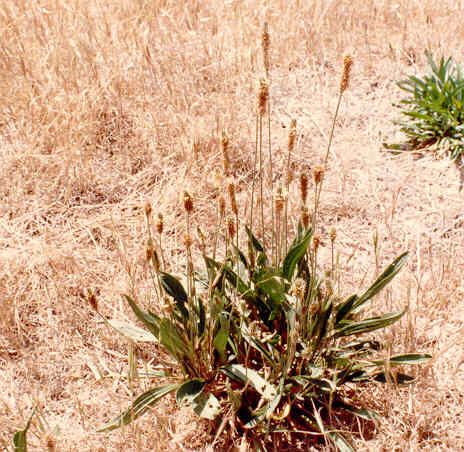buckhorn plantain: (113, 31, 414, 424)
